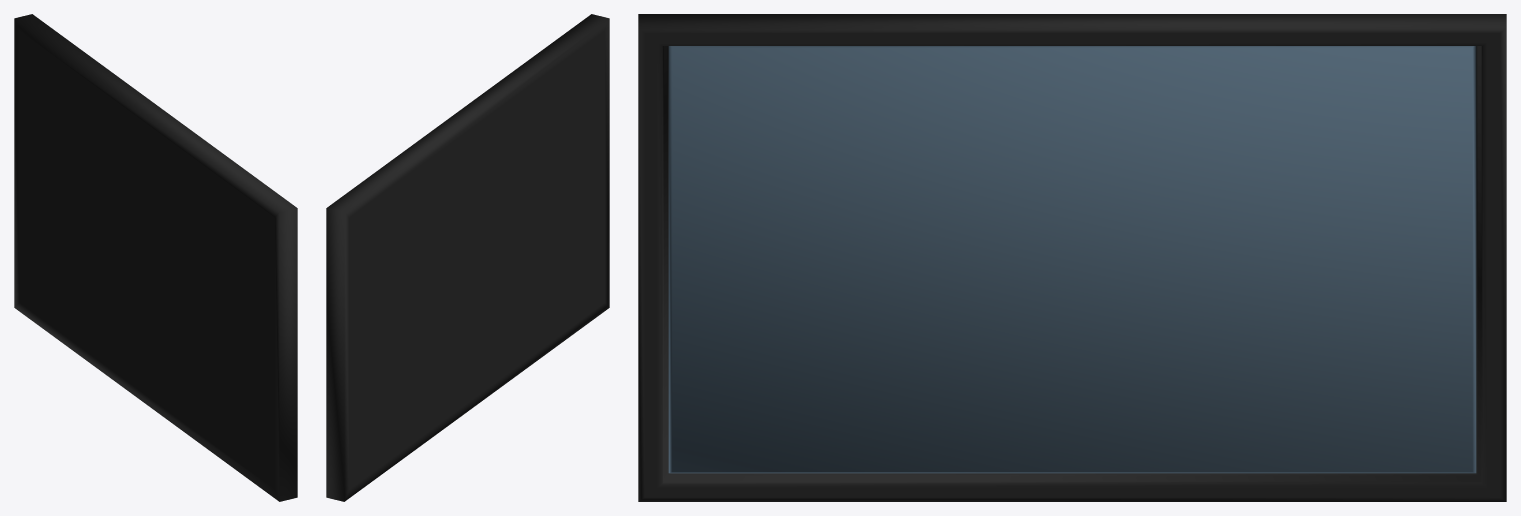
3 views of the same model, side by side, from view 1: azimuth 30°, elevation 25°; view 2: azimuth 150°, elevation 25°; view 3: azimuth 270°, elevation 25° (orthographic). The views are drawn at different scales.
Visible parts, largest first — view 1: Cube.005; view 2: Cube.005; view 3: Cube.005.
Part boxes in pixels (bbox=[...]): Cube.005: bbox=[14, 14, 297, 501]; Cube.005: bbox=[326, 14, 609, 501]; Cube.005: bbox=[638, 14, 1506, 501].
Bounding box in the file's own units: 121 × 1863 × 3095.
